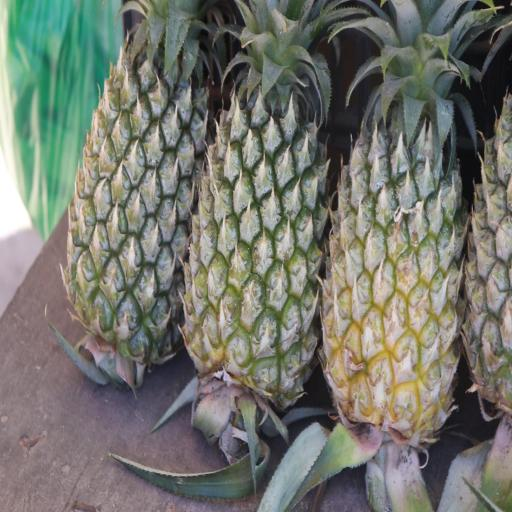------------------------------: (316, 0, 473, 451)
